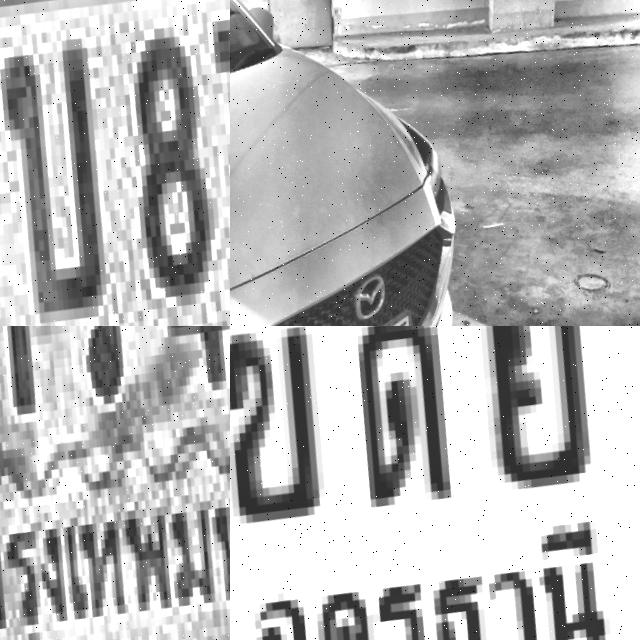license-plate: (230, 326, 640, 640), (0, 0, 230, 326), (0, 326, 230, 640), (325, 295, 440, 326)
